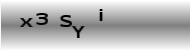3: (35, 11, 48, 25)
S: (58, 14, 72, 27)
Y: (71, 25, 85, 38)
i: (97, 8, 104, 21)
x: (19, 16, 32, 27)
